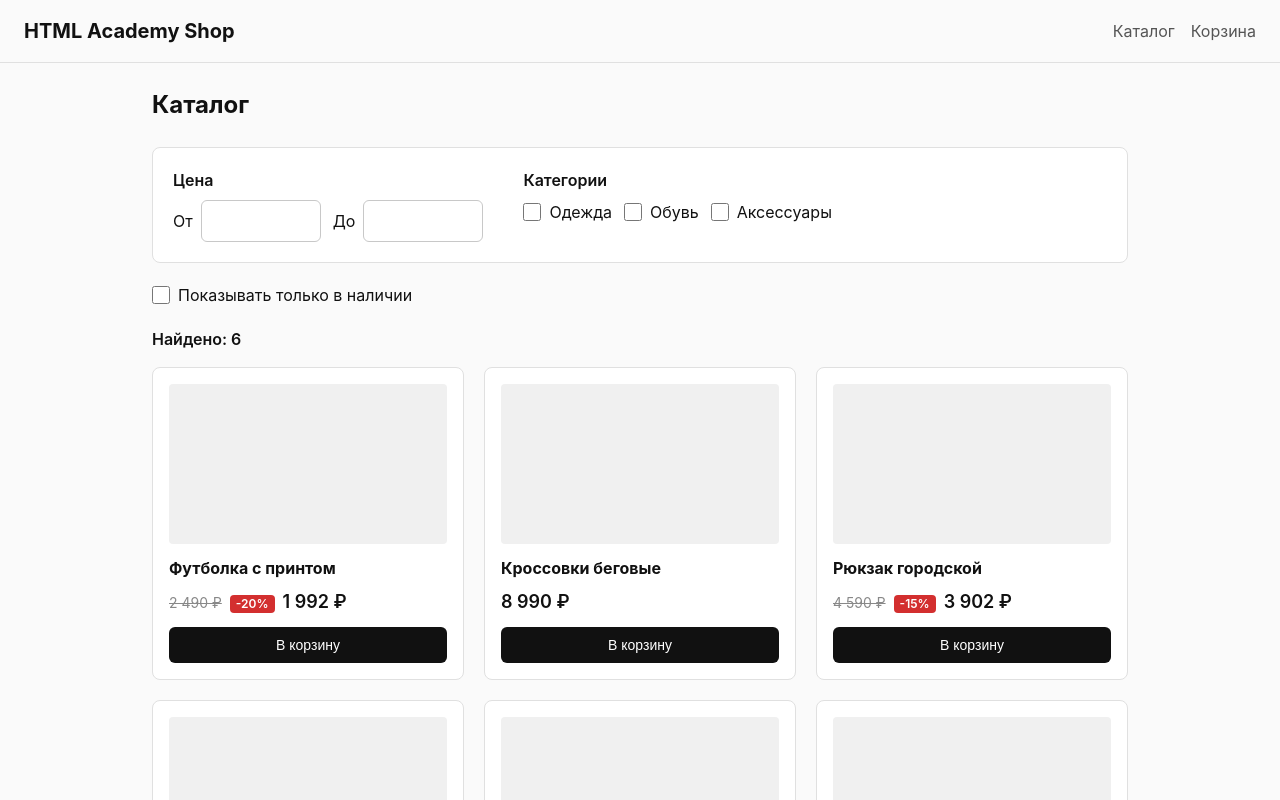
Scenario: CartPage promo discount › restores an applied promo code from localStorage
Click the button "В корзину" below "1 992 ₽" at (308, 645), box [169,627,447,663]
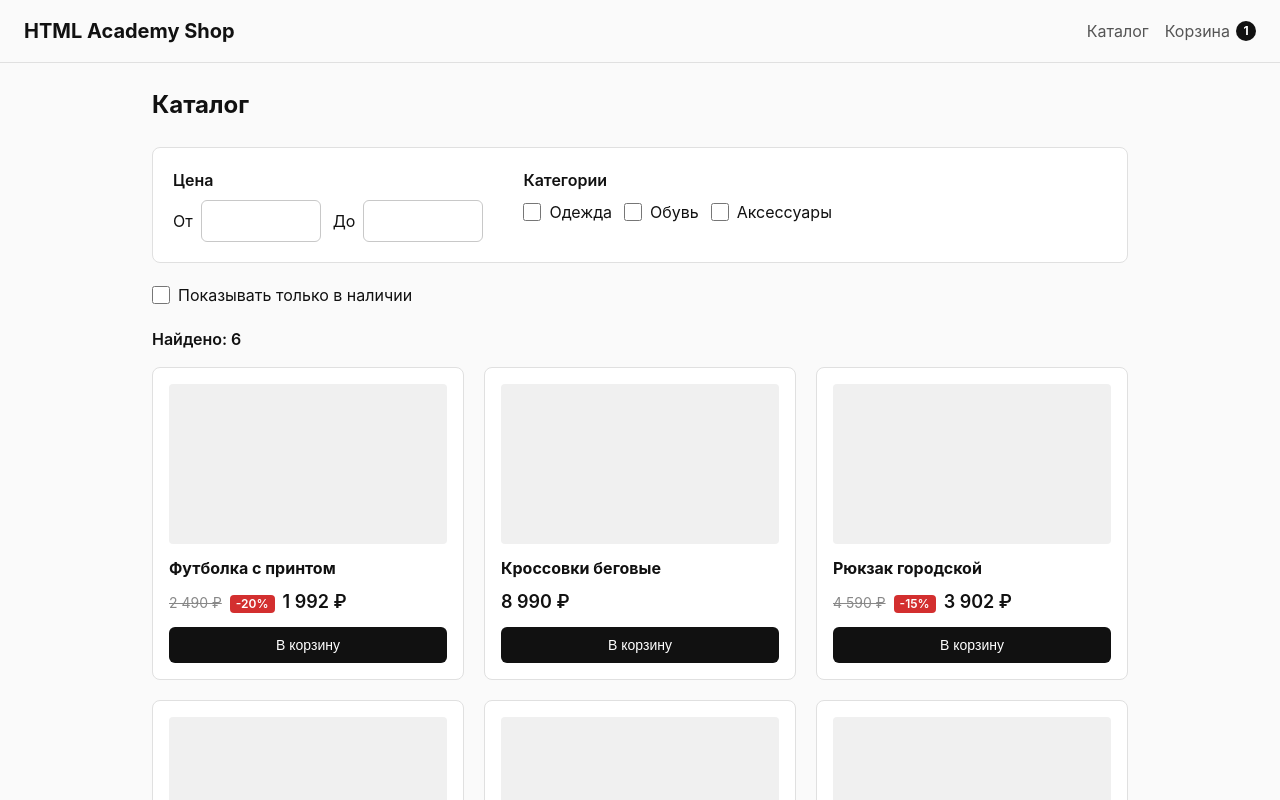
Click the link "Корзина 1" at (1210, 31), box [1165,19,1256,43]
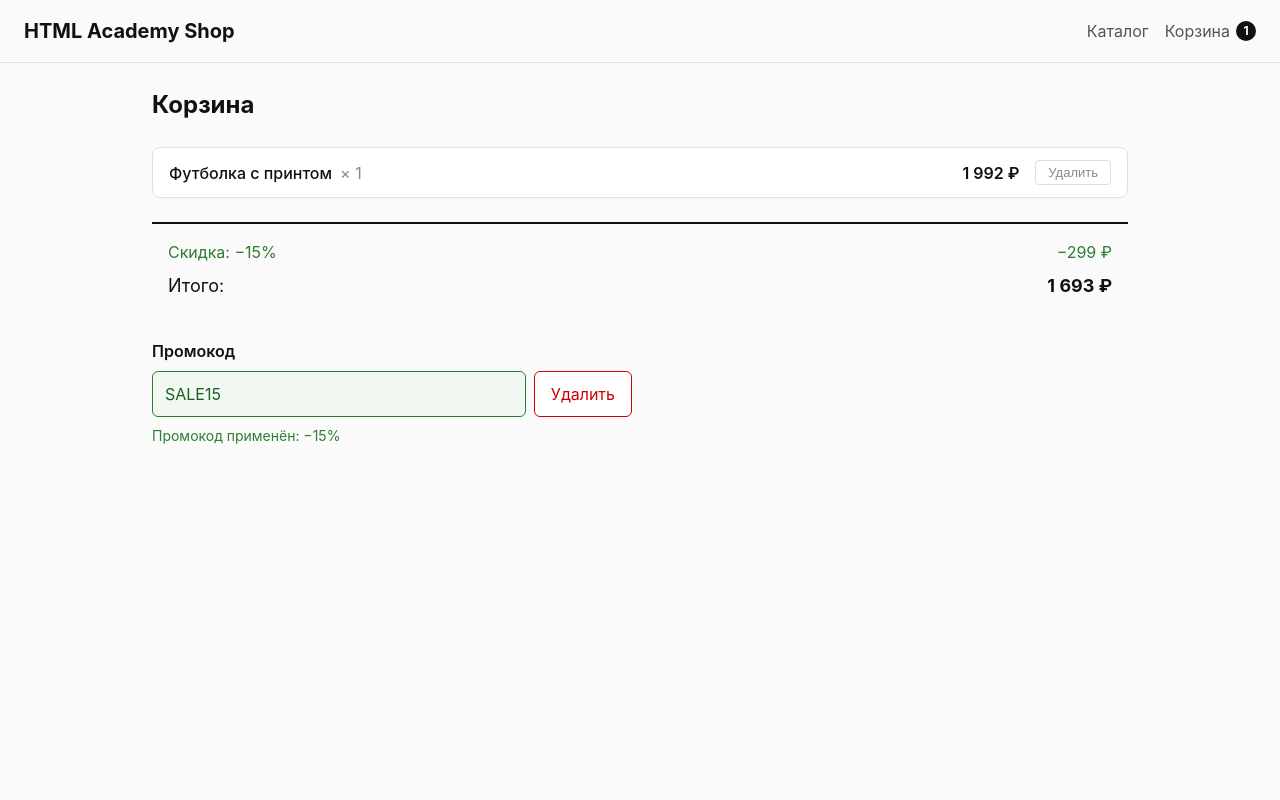
Now the field labelled "Промокод" holds "SALE15", box [152,371,526,417]
Now the text "Скидка: −15%" is shown, box [168,240,277,264]
Now the text "1 693 ₽" is shown, box [1047,272,1112,299]
